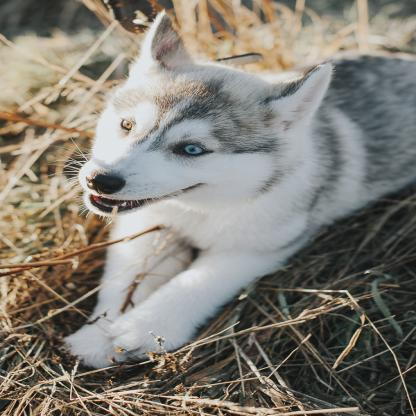husky: (46, 14, 416, 374)
